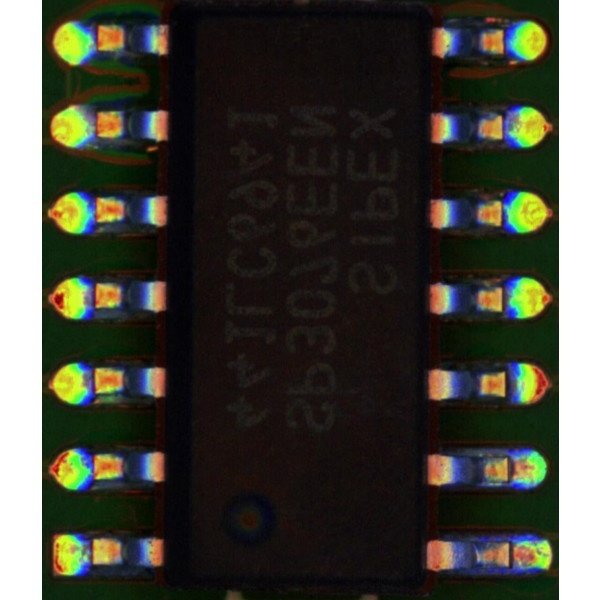Bad_podu: (501, 457, 530, 481), (499, 543, 523, 566)
